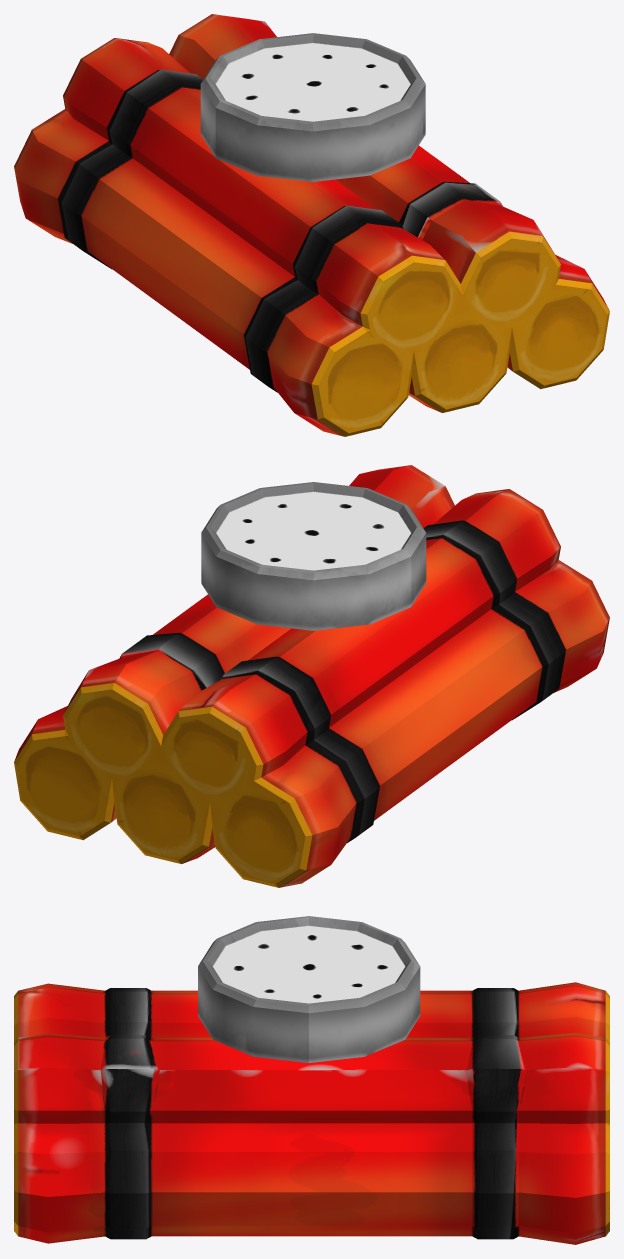
Rendered from bomb_03.FBX.
3 views of the same model, one above another, from view 1: azimuth 30°, elevation 25°; view 2: azimuth 150°, elevation 25°; view 3: azimuth 270°, elevation 25° (orthographic).
Parts seen in each view (by area): view 1: Cylinder007, Object002; view 2: Object002, Cylinder007; view 3: Object002, Cylinder007.
Part boxes in pixels (box(x1,y1,x2,y2)): Cylinder007: box(190, 56, 609, 436); Object002: box(14, 14, 420, 329); Object002: box(14, 504, 488, 887); Cylinder007: box(221, 465, 609, 741); Object002: box(258, 916, 609, 1244); Cylinder007: box(14, 916, 308, 1243).
Bounding box in the file's own units: 69.84 × 47.63 × 114.
